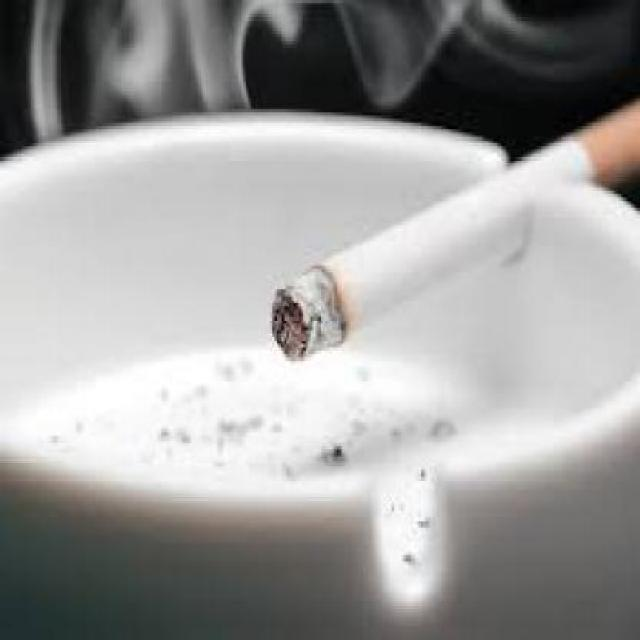cigarette: (270, 95, 636, 368)
